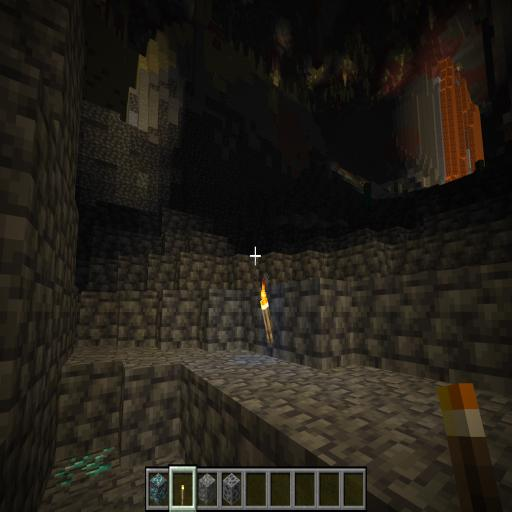diamond ore: (48, 440, 124, 498)
